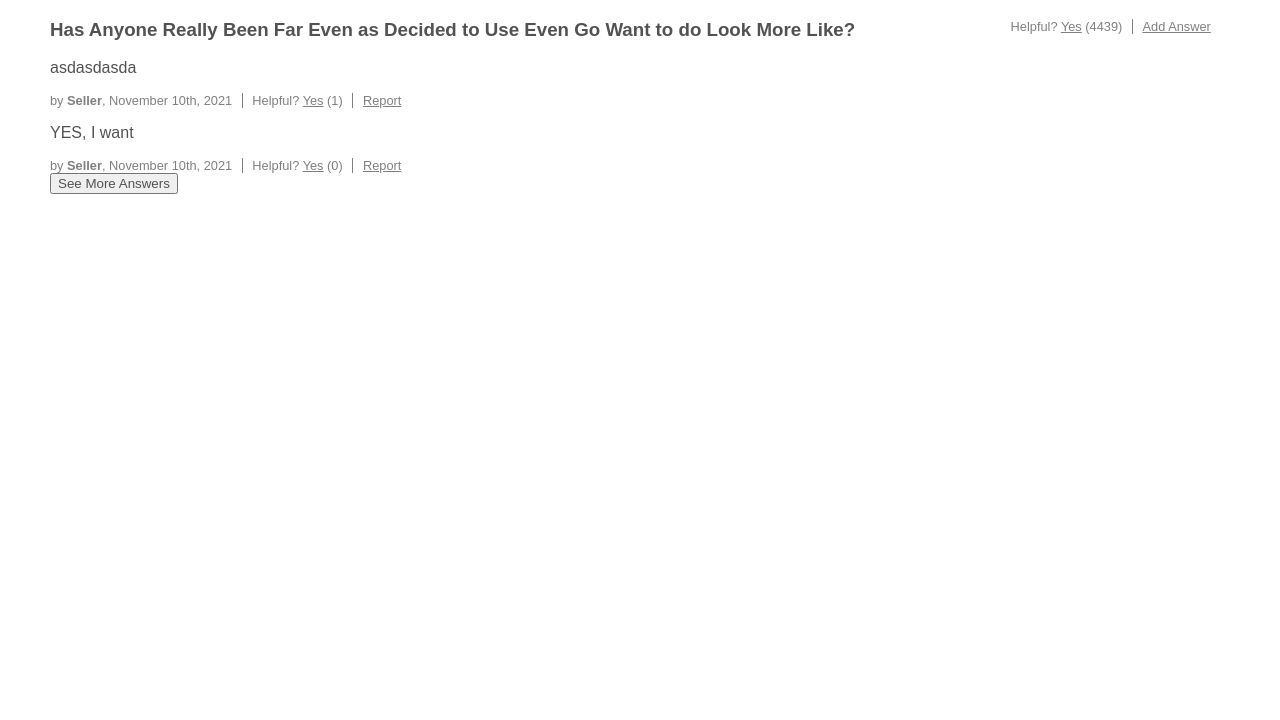
Test: displays a modal
Click the link "Add Answer" at (1177, 26), box [1142, 19, 1211, 34]
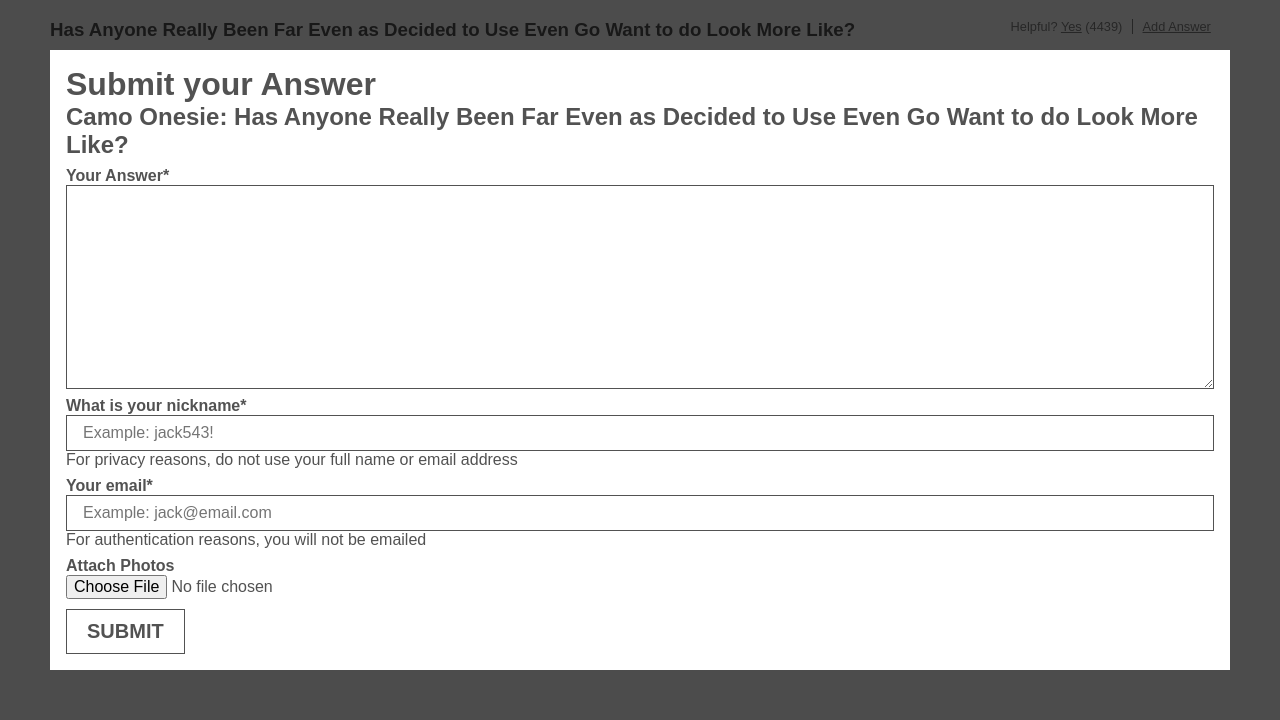
Check: the dialog is shown
